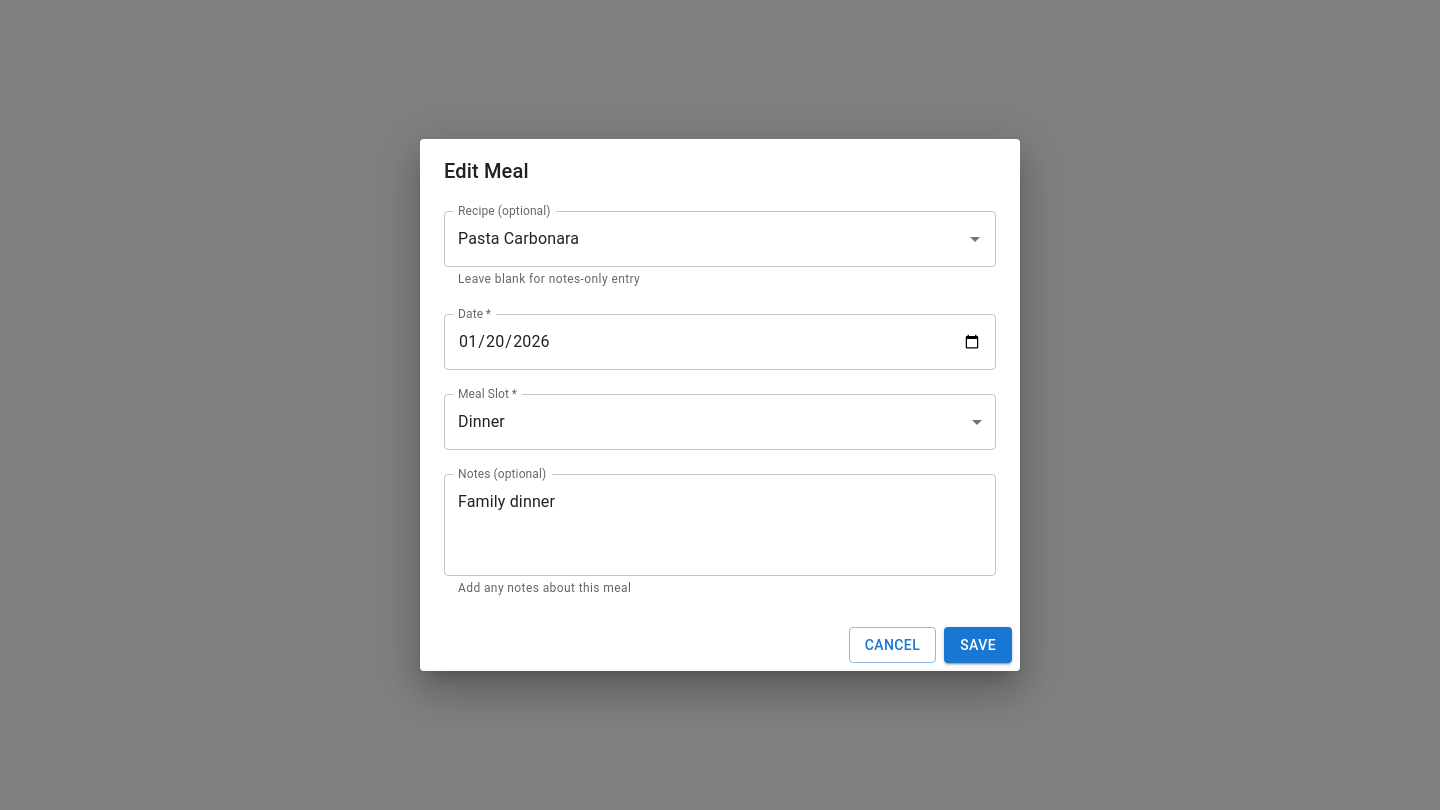
EditCalendarEntryDialog › should disable buttons while submitting
This screenshot has width=1440, height=810.
Click the button "Save".
click(978, 645)  # box [944,627,1012,663]
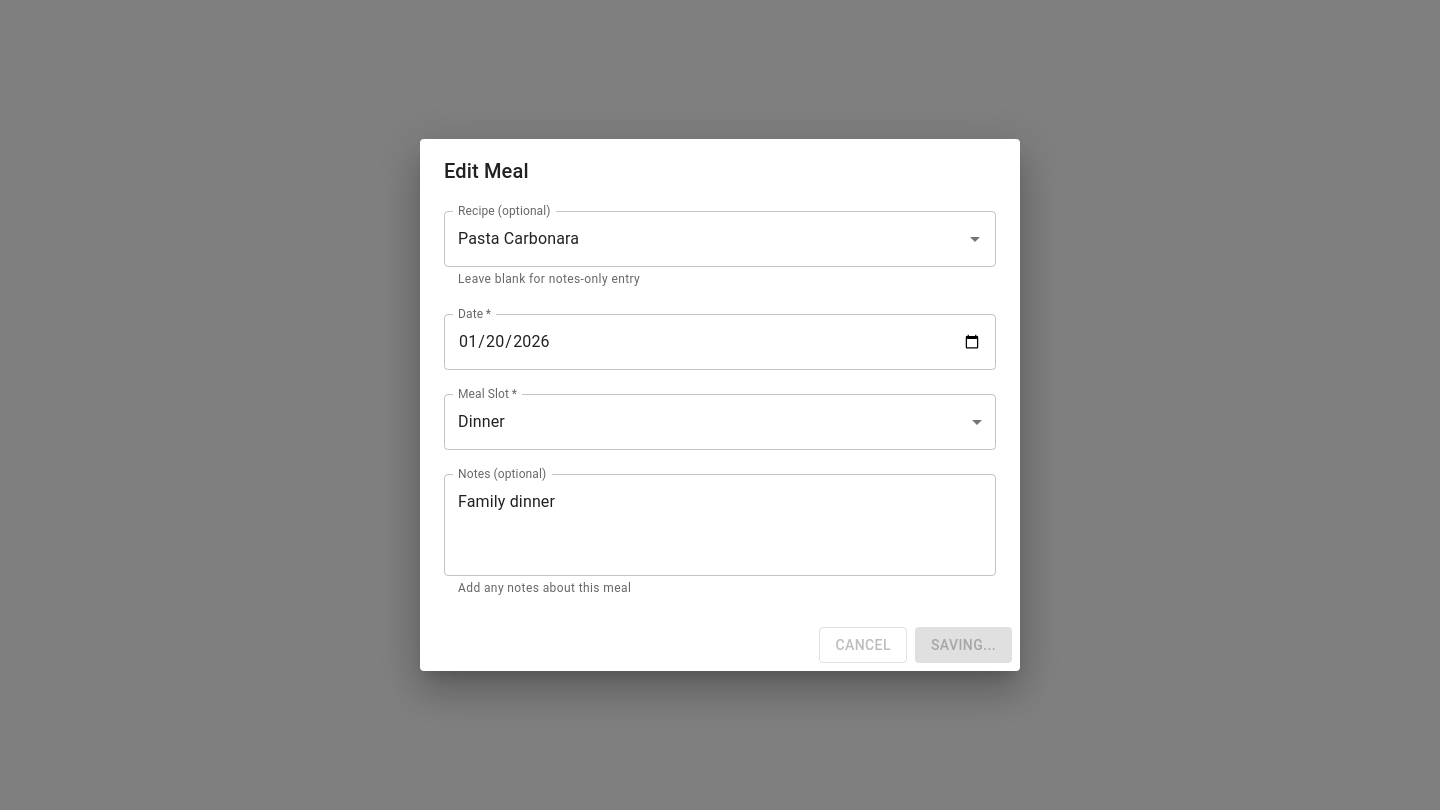
Now the button named "save" is disabled, box [915,627,1012,663]
Now the button "Cancel" is disabled, box [820,627,907,663]
